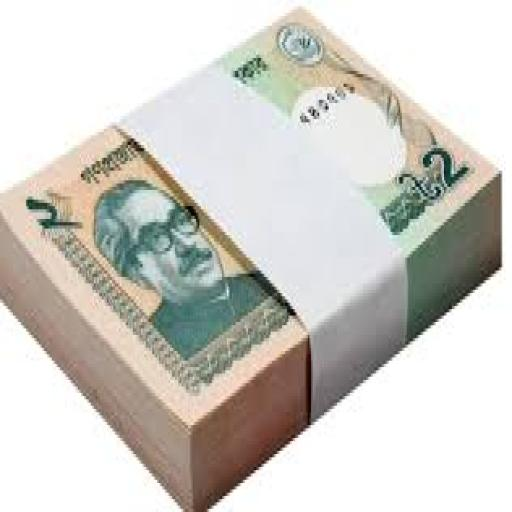2taka: (4, 0, 500, 424)
